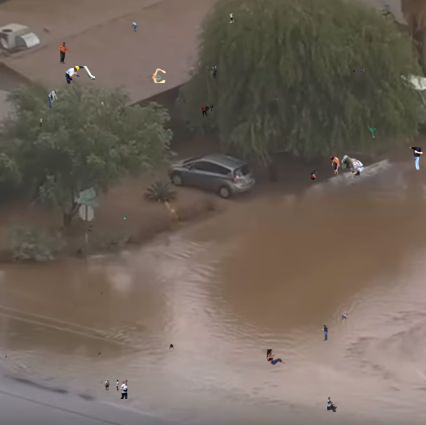Human: (65, 66, 95, 84), (101, 379, 128, 399), (341, 155, 364, 178), (137, 66, 166, 83), (265, 349, 287, 366), (409, 147, 423, 170), (58, 42, 71, 64), (201, 103, 214, 118), (330, 156, 340, 174), (48, 90, 58, 108), (325, 397, 337, 412), (367, 125, 377, 138), (320, 325, 328, 341), (309, 169, 318, 181), (353, 67, 365, 75), (342, 311, 351, 321), (212, 66, 218, 79), (229, 12, 234, 23), (132, 22, 137, 32), (39, 118, 43, 127), (169, 343, 174, 349), (98, 352, 102, 359), (271, 98, 278, 101), (100, 102, 104, 106), (4, 354, 7, 358), (100, 292, 103, 295), (124, 216, 127, 219)
